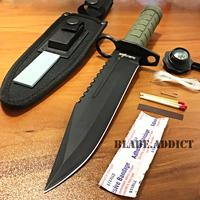knife: (40, 5, 156, 197)
